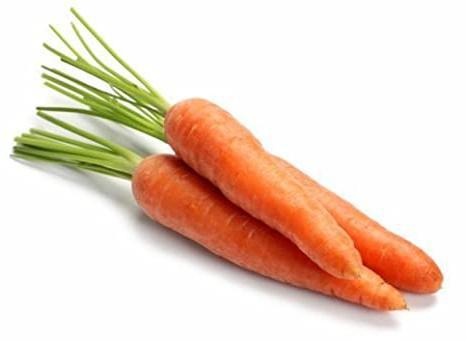carrot: (134, 93, 450, 316), (143, 99, 383, 280)
